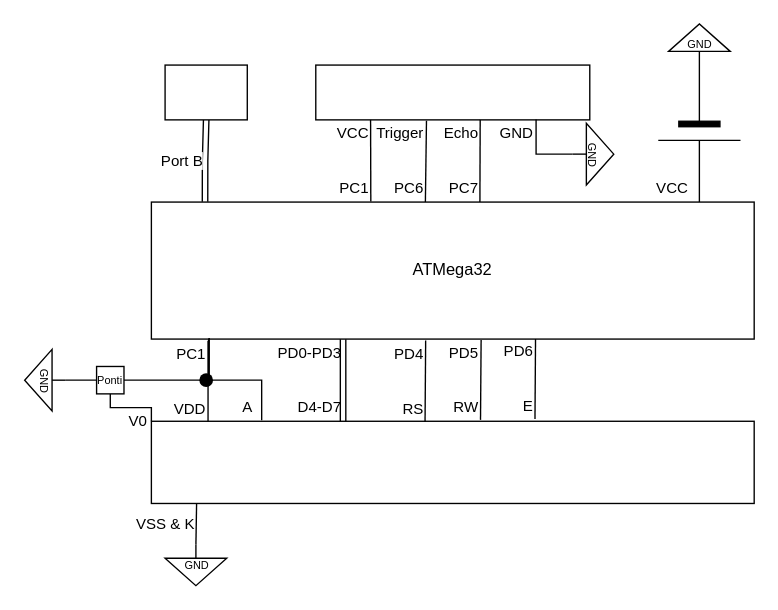
Image size: 778x610. Some labels were removed from this diagram. Each missing label, with the centre of its shape:
"Board LEDs" belongs at (x=205, y=92).
"Display" belongs at (x=452, y=461).
"Ultraschall" belongs at (x=452, y=92).
